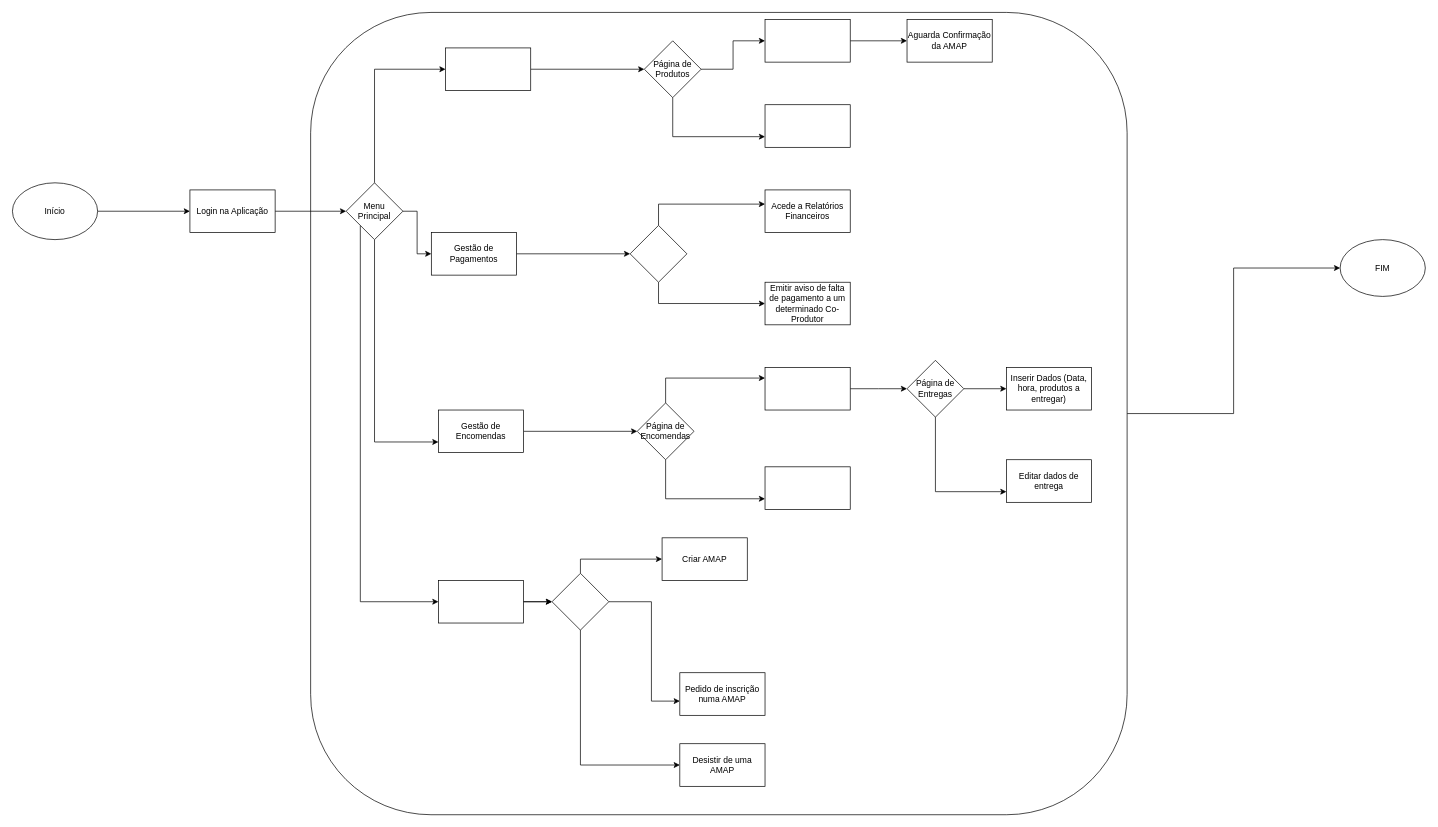
Some shapes in this 1438 by 827 pixel diagram are drawn without their labels. The shapes that lost their labels are listed below. From the top down, each one's box as (x1, y1, x2, y2) in pixels, then its label:
(764, 19, 850, 62): Adicionar Produtos
(445, 47, 531, 91): Produtos
(764, 104, 850, 147): Editar Produtos
(629, 225, 687, 282): Página de Pagamentos
(764, 367, 850, 410): Planear Entrega
(764, 466, 850, 509): Ver e gerir encomendas
(438, 580, 524, 623): AMAPS
(551, 573, 609, 630): Lista AMAPS
